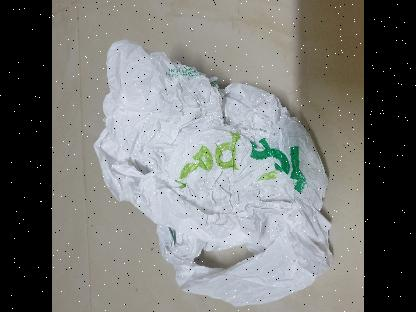Others: (92, 37, 332, 307)
